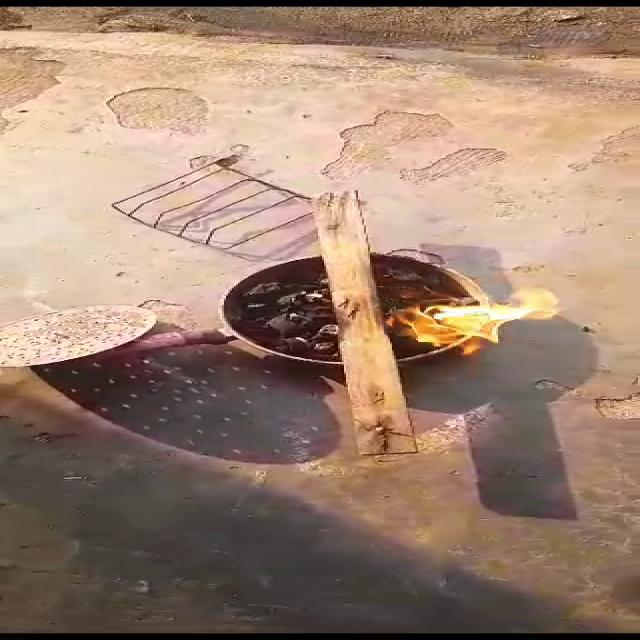Fire: (375, 282, 578, 360)
